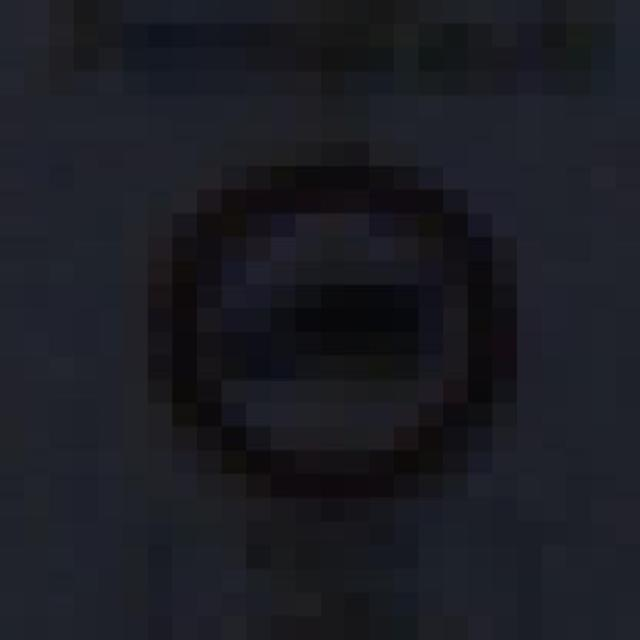Truck traffic is prohibited: (68, 109, 584, 537)
